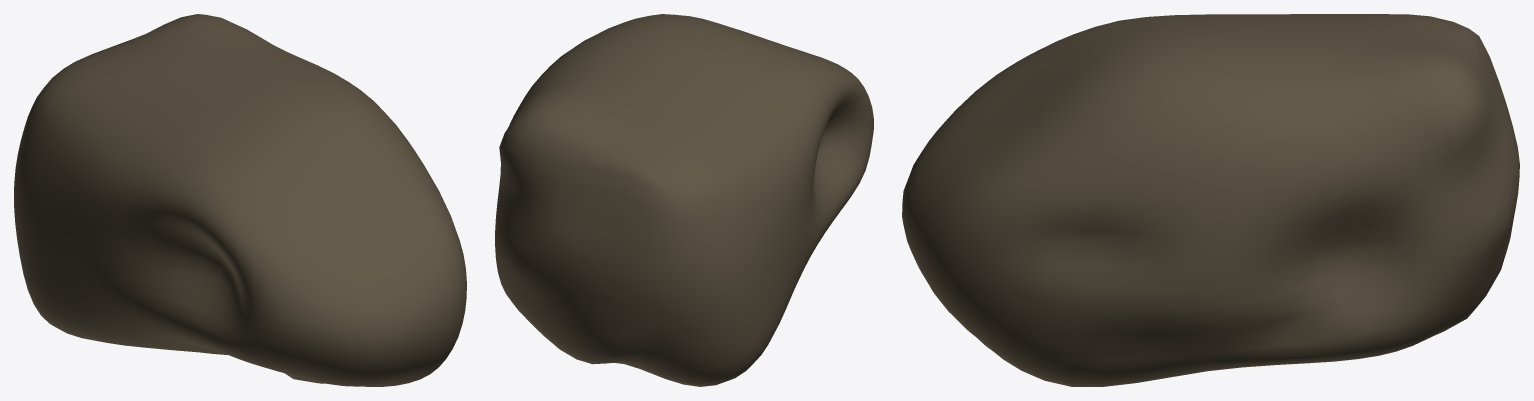
Rendered from AsteroidTexture2.fbx.
3 renders of one model, left to right at view 1: azimuth 30°, elevation 25°; view 2: azimuth 150°, elevation 25°; view 3: azimuth 270°, elevation 25°, orthographic. The views are drawn at different scales.
Parts seen in each view (by area): view 1: MediumAsteriod; view 2: MediumAsteriod; view 3: MediumAsteriod.
Part boxes in pixels (x1,y1,x2,y2): MediumAsteriod: [14, 14, 466, 386]; MediumAsteriod: [495, 14, 873, 386]; MediumAsteriod: [902, 14, 1519, 386].
Bounding box in the file's own units: 132 × 110 × 197.
